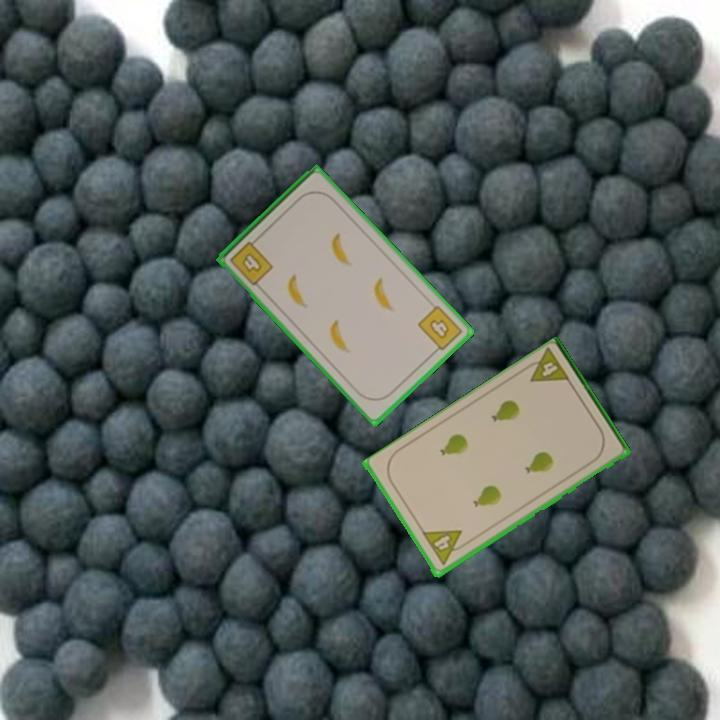4b: (414, 302, 465, 357), (226, 234, 276, 288)
4p: (419, 526, 471, 569), (519, 346, 573, 386)
